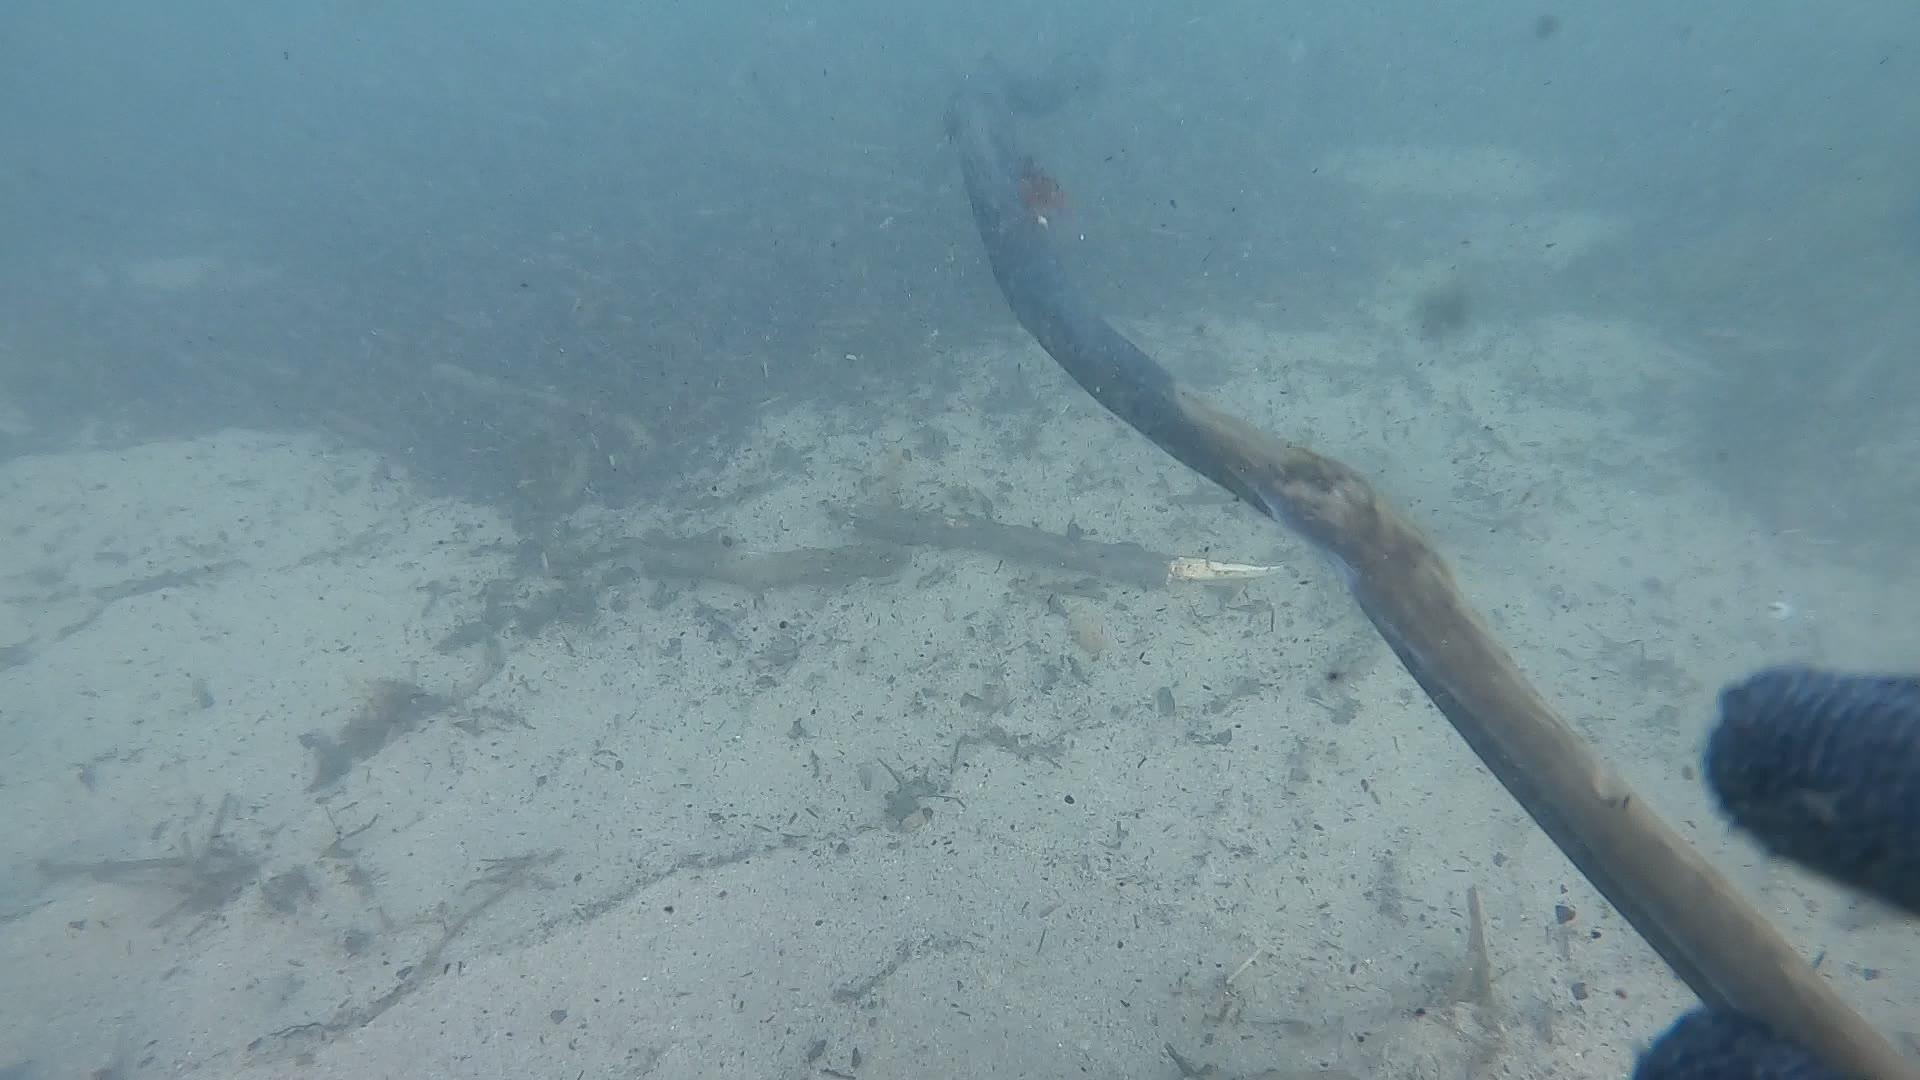wood: (949, 44, 1904, 1080)
